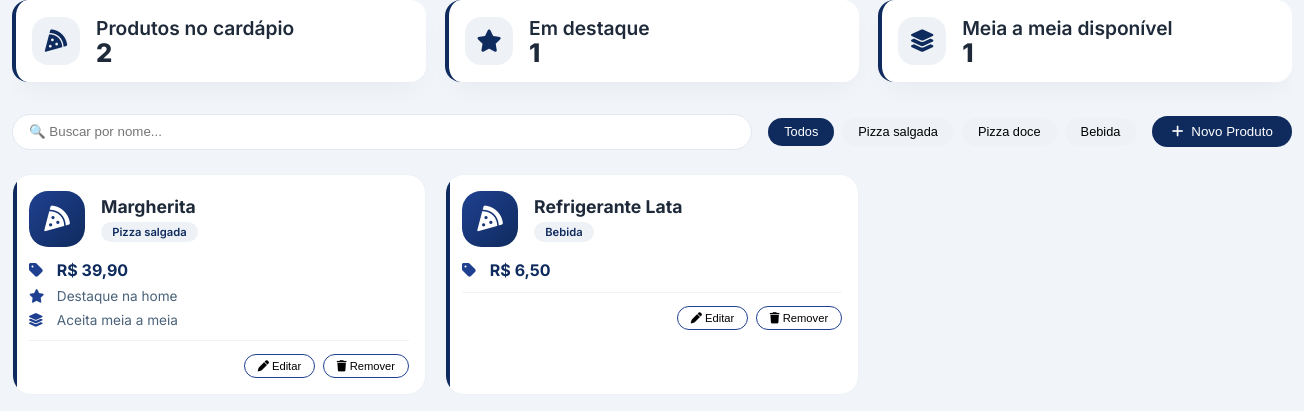
Scenario: ProductsSection (painel admin — cardápio) › filtra por categoria e busca por nome
Expected: the heading "Margherita" is shown, 101,196 -> 198,217
Click the button "Bebida" at (1101, 132), box 1065,118 -> 1136,146
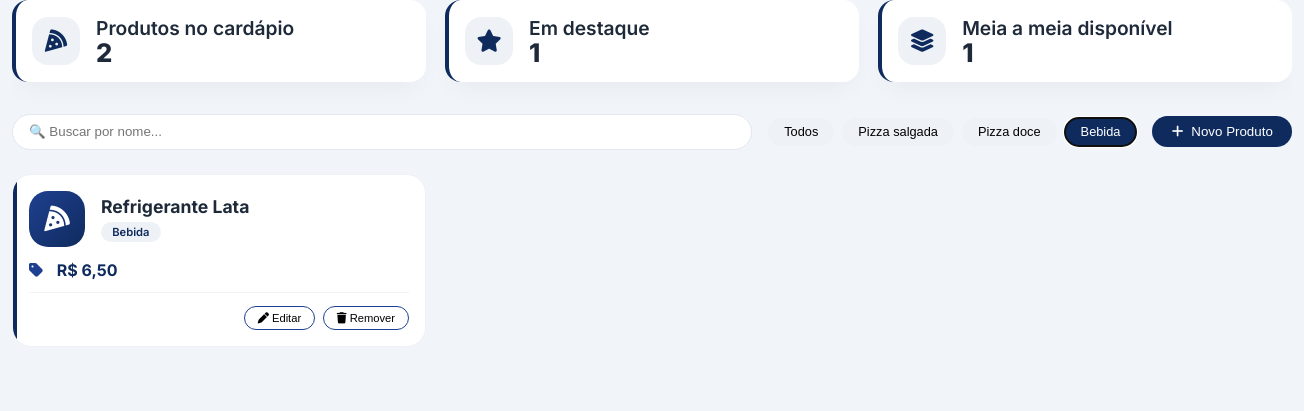
Expected: the heading "Refrigerante Lata" is shown, 101,196 -> 249,217
Now the heading "Margherita" is gone
Click the button "Todos" at (801, 132), box 768,118 -> 834,146
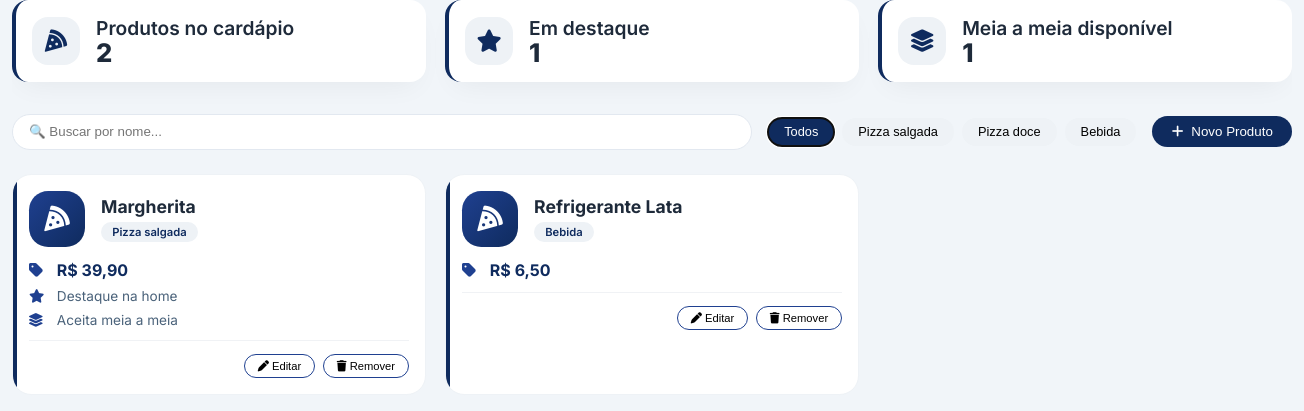
Type "marg" into the field with placeholder "🔍 Buscar por nome..." at (382, 132), box 12,114 -> 752,150
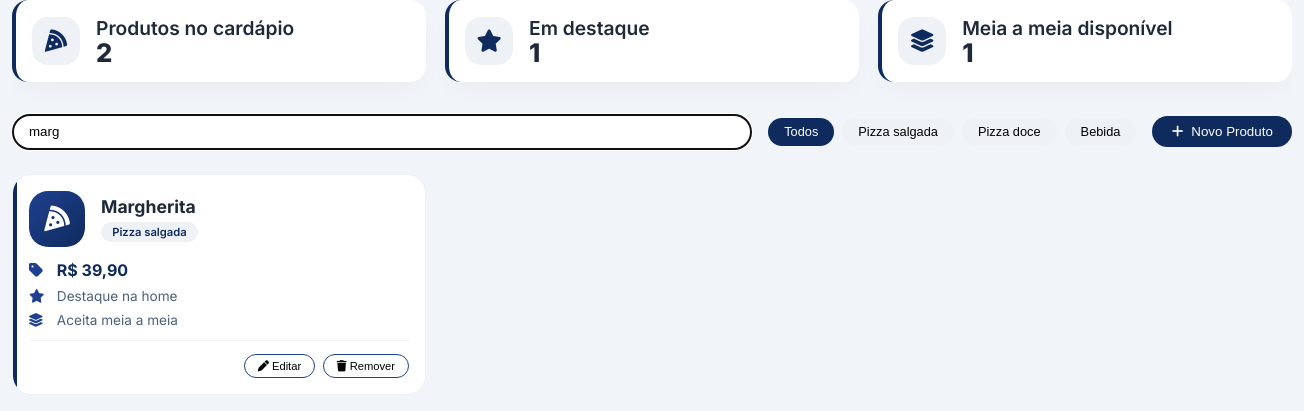
Now the heading "Margherita" is shown, box 101,196 -> 198,217
Now the heading "Refrigerante Lata" is gone
